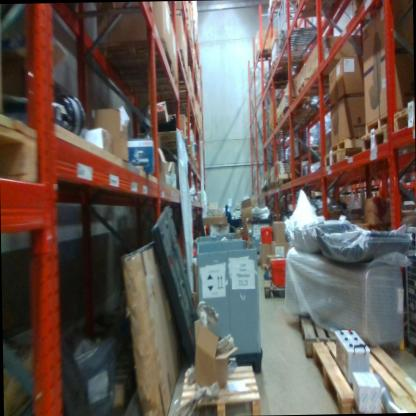pallet: (309, 331, 416, 414), (176, 361, 274, 414), (94, 43, 181, 94), (0, 103, 43, 190), (300, 306, 363, 361), (361, 95, 415, 156), (137, 124, 191, 159), (251, 71, 303, 102), (277, 102, 325, 131), (361, 103, 396, 138), (266, 54, 309, 79), (297, 71, 334, 100), (327, 129, 363, 153), (262, 273, 290, 300), (320, 149, 359, 164), (295, 0, 332, 15), (248, 46, 274, 67), (276, 174, 300, 188), (299, 143, 326, 155), (260, 183, 275, 197), (275, 171, 293, 179), (265, 262, 275, 273), (258, 259, 266, 269), (253, 259, 258, 266)
small_load_carrier: (267, 256, 294, 286), (259, 221, 274, 244)
stillage: (401, 218, 416, 353)
